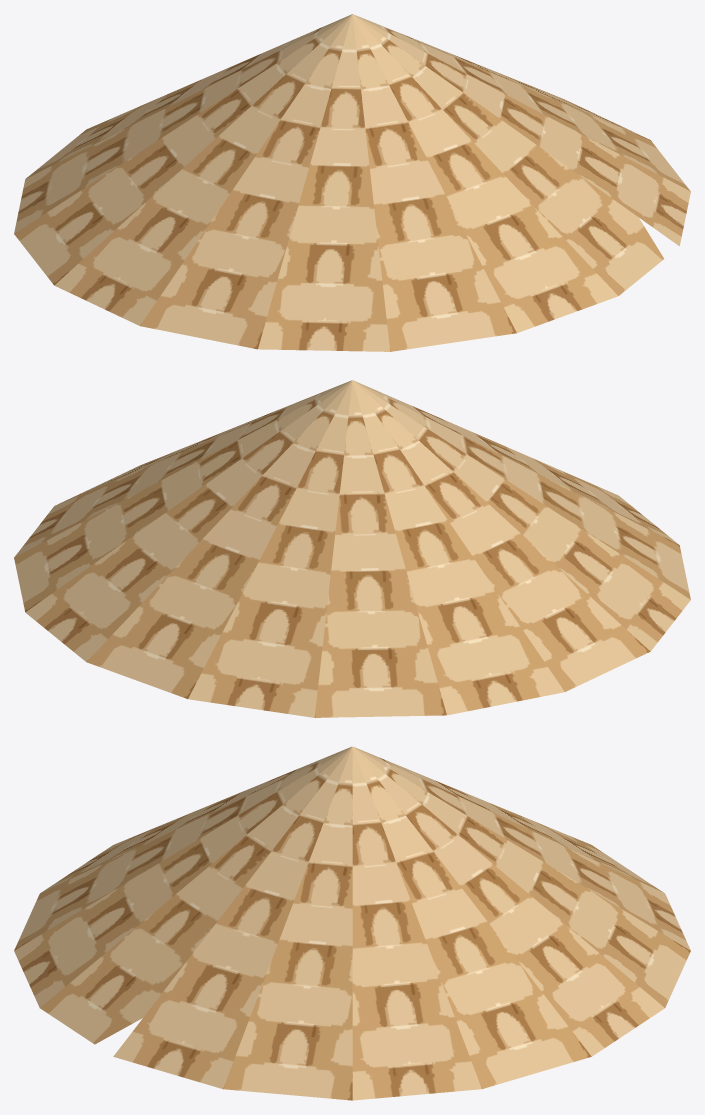
File: Hat.fbx
3 renders of one model, top to bottom at view 1: azimuth 30°, elevation 25°; view 2: azimuth 150°, elevation 25°; view 3: azimuth 270°, elevation 25°, orthographic. The views are drawn at different scales.
Visible parts, largest first — view 1: pCone3; view 2: pCone3; view 3: pCone3.
Boxes of the visible parts, <box> form: pCone3: <box>14,14,690,351</box>; pCone3: <box>14,380,690,717</box>; pCone3: <box>14,746,690,1100</box>.
Size of the model in its own units: 1.57 by 0.5 by 1.5.
1 material, 1 textured.
